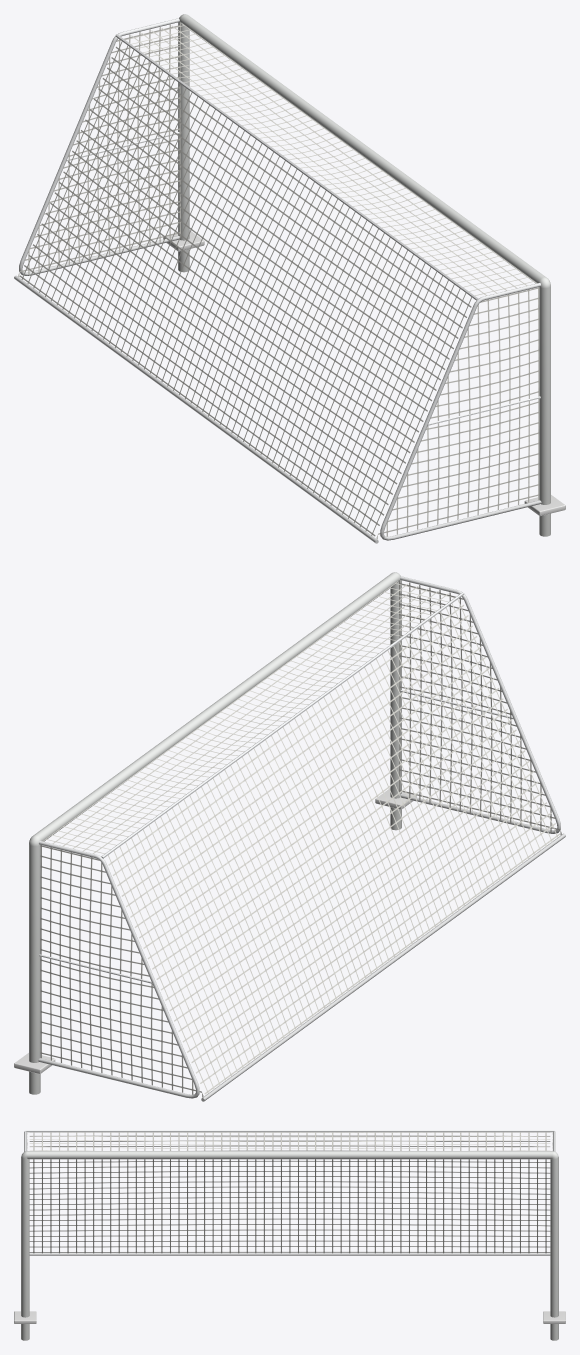
The model's file is soccer_goal_full.glb.
The picture shows the model from 3 angles, top to bottom: view 1: azimuth 30°, elevation 25°; view 2: azimuth 150°, elevation 25°; view 3: azimuth 270°, elevation 25°; orthographic projection. The views are drawn at different scales.
Visible parts, largest first — view 1: soccer_goal_full_net, soccer_goal_full_paint_white, soccer_goal_full_steel_galv, soccer_goal_full_concrete; view 2: soccer_goal_full_net, soccer_goal_full_paint_white, soccer_goal_full_steel_galv, soccer_goal_full_concrete; view 3: soccer_goal_full_net, soccer_goal_full_paint_white, soccer_goal_full_steel_galv, soccer_goal_full_concrete.
Boxes of the visible parts, x1,y1,x2,y2 form: soccer_goal_full_net: (18, 22, 539, 539); soccer_goal_full_paint_white: (178, 14, 550, 536); soccer_goal_full_steel_galv: (14, 18, 541, 543); soccer_goal_full_concrete: (163, 230, 565, 515); soccer_goal_full_net: (40, 580, 561, 1097); soccer_goal_full_paint_white: (29, 572, 401, 1094); soccer_goal_full_steel_galv: (38, 576, 565, 1101); soccer_goal_full_concrete: (14, 788, 416, 1073); soccer_goal_full_net: (27, 1132, 552, 1253); soccer_goal_full_paint_white: (21, 1151, 558, 1340); soccer_goal_full_steel_galv: (24, 1130, 555, 1255); soccer_goal_full_concrete: (14, 1311, 565, 1323).
Size of the model in its own units: 2.18 by 2.91 by 7.76.
4 materials, 1 textured.
